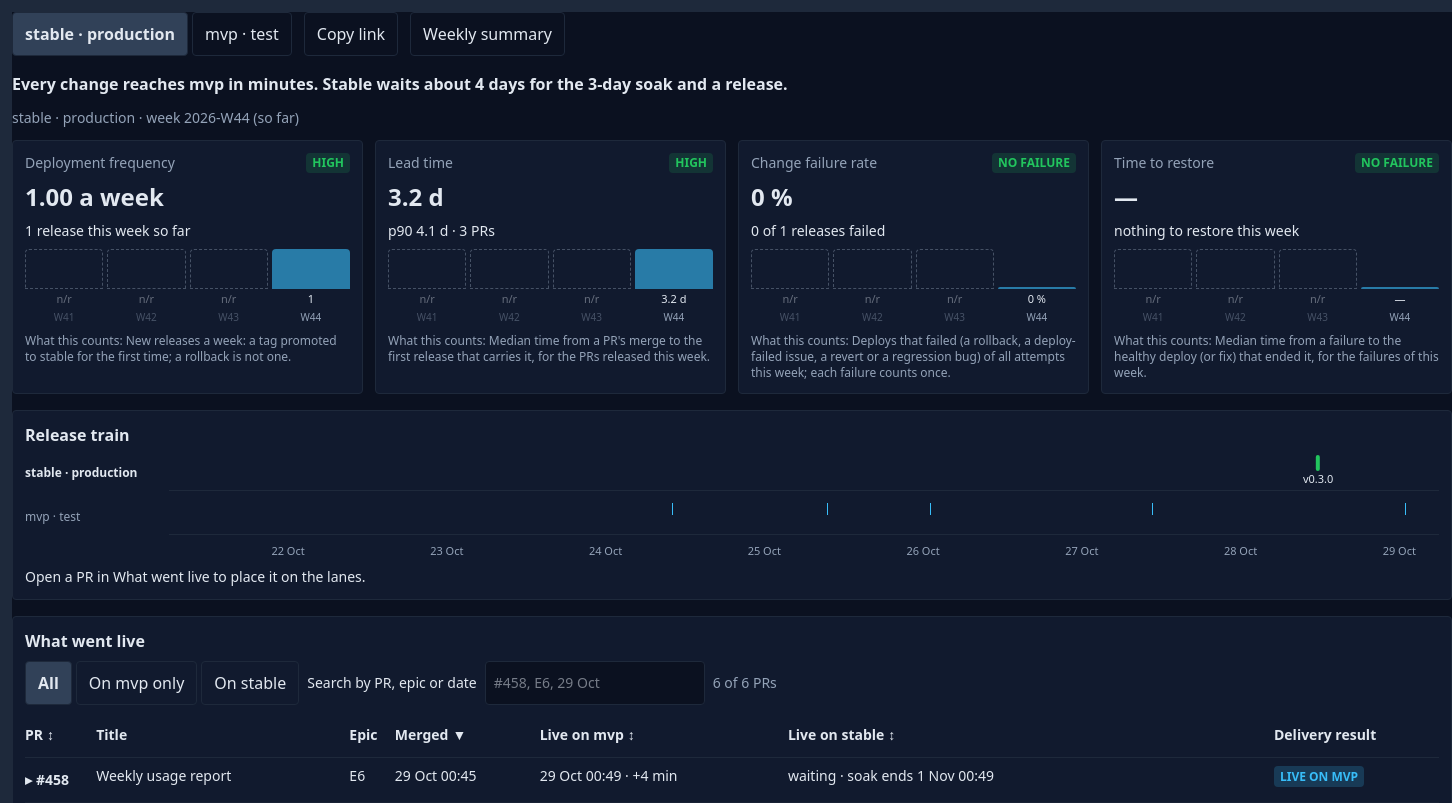
Test case: Weekly summary and Copy link › Weekly summary shows the text dora.sh posts for the last week that ended
Click the button "Weekly summary" at (488, 34), box x1=410 y1=12 x2=565 y2=56
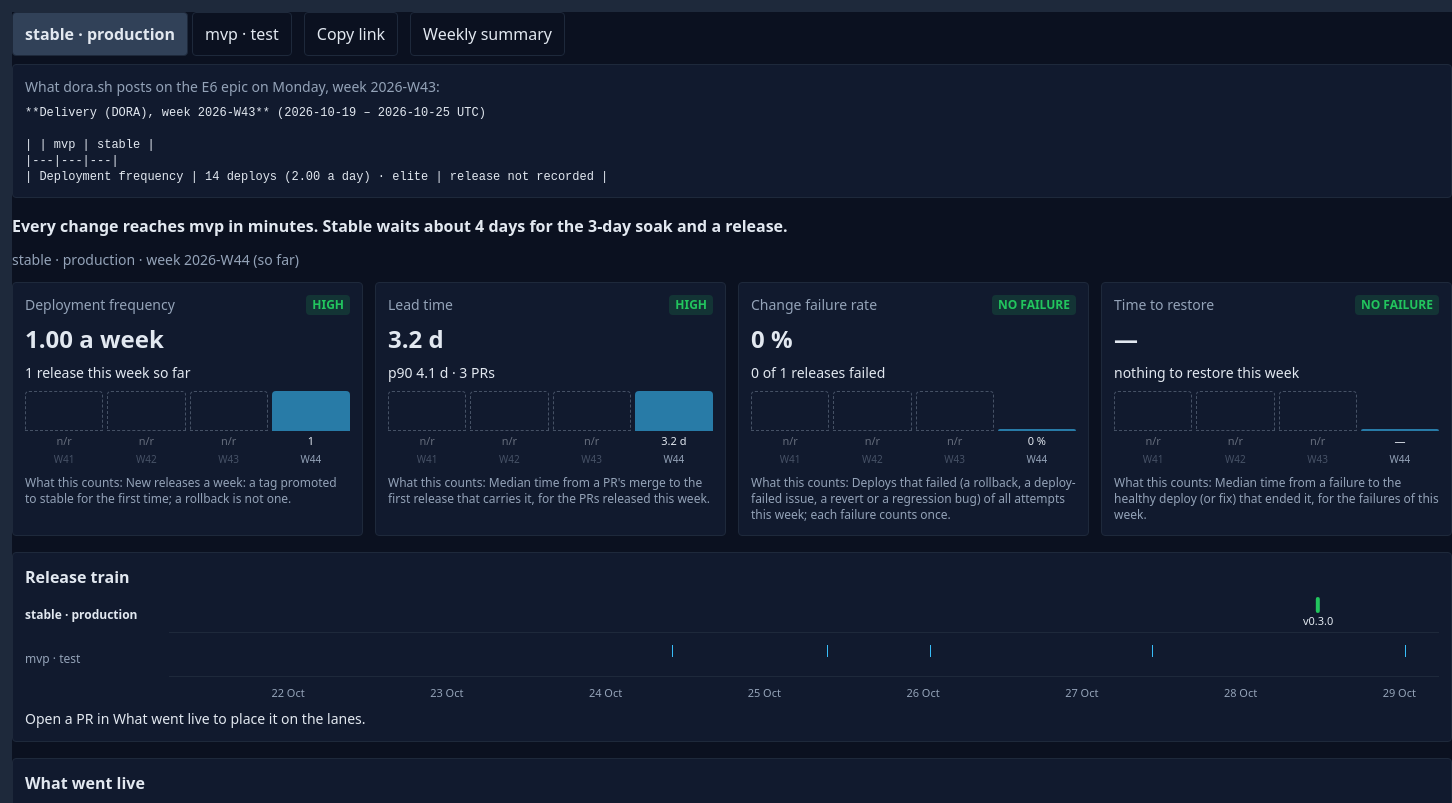
Now the element named "Weekly summary" shows "week 2026-W43", box x1=25 y1=106 x2=608 y2=184
